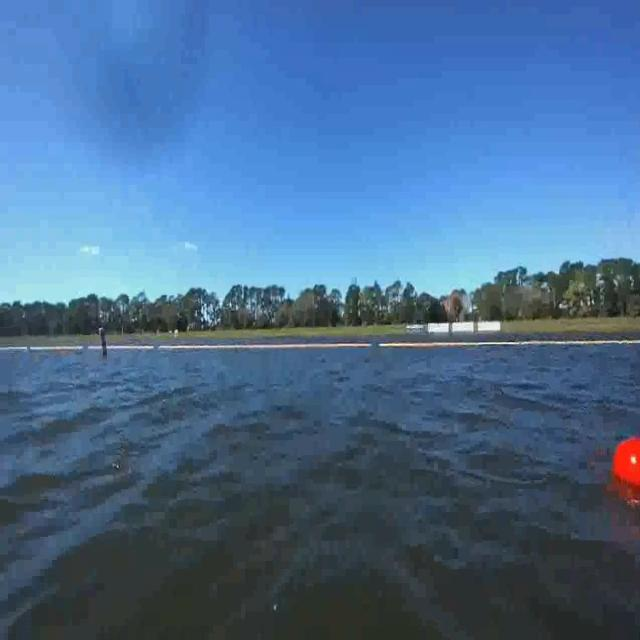red-buoy: (612, 437, 640, 489)
